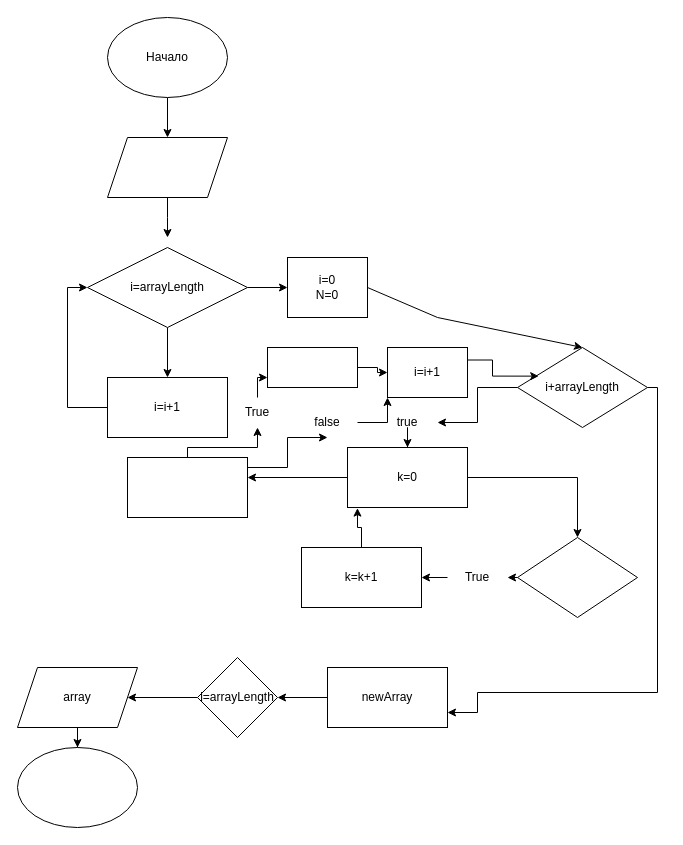
Some shapes in this 683 by 845 pixel diagram are drawn without their labels. The shapes that lost their labels are listed below. From the top down, each one's centre as x and y in pixels, then its label:
[167,167]: ввод
[312,367]: N = N+1
[187,487]: k<=3
[577,577]: char c in array
[77,787]: Конец
